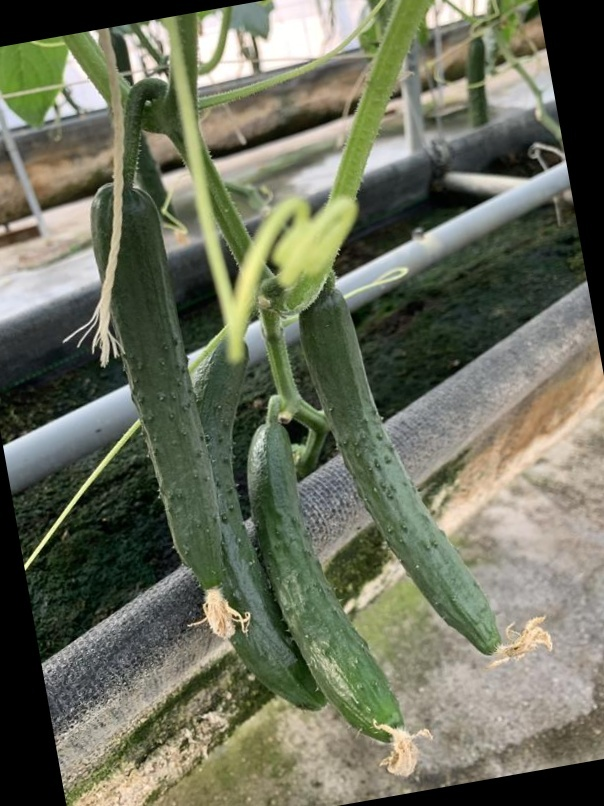mature: (307, 288, 502, 654), (183, 339, 323, 712), (99, 181, 226, 592), (248, 417, 405, 742)
